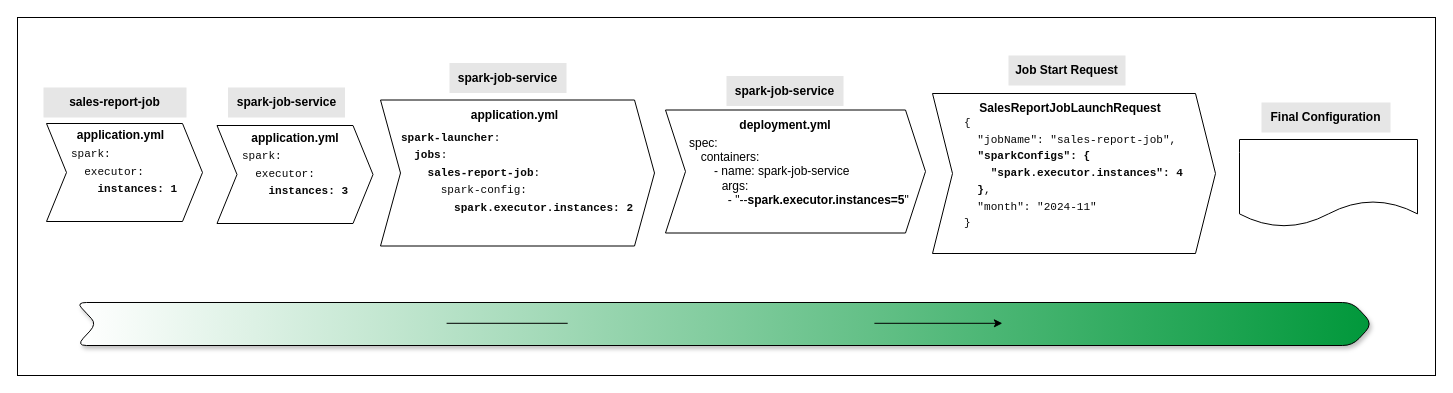
The diagram is 1453 pixels wide and 393 high, and some of its shapes have lost their labels. The centre of each missing label's shape, as x and y in pixels:
Configurations Precedence Order: pixel 725 325
spark.executor.instances=4: pixel 1328 182
